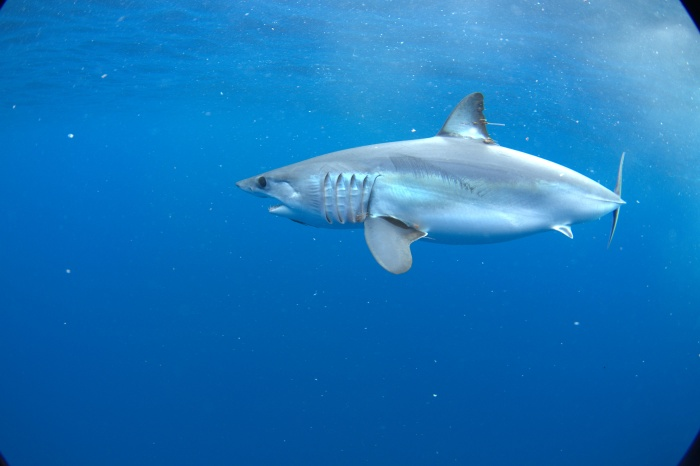Mako: (219, 92, 639, 283)
